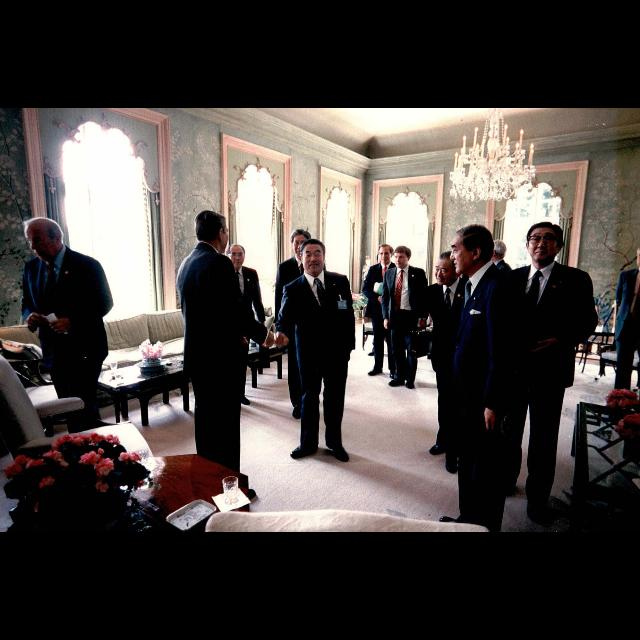head: (450, 225, 494, 275), (23, 217, 62, 263), (192, 209, 230, 255), (526, 222, 564, 262), (299, 240, 327, 276), (434, 251, 462, 287), (292, 230, 312, 258), (226, 244, 246, 268), (394, 245, 412, 268), (378, 244, 394, 264)
person: (498, 220, 602, 530), (175, 208, 278, 507), (19, 215, 120, 483), (272, 238, 358, 466), (424, 252, 478, 476), (272, 228, 332, 420), (212, 242, 268, 408), (380, 245, 430, 392), (361, 242, 405, 380)
